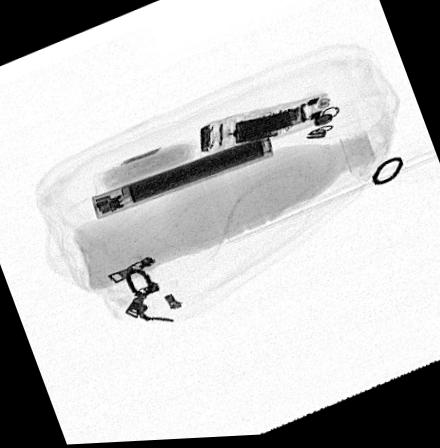Powerbank: (91, 130, 275, 221)
